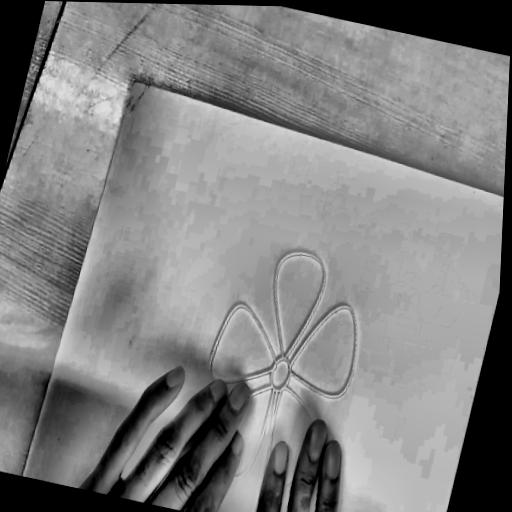top_right: (163, 218, 394, 512), (127, 72, 141, 91)
